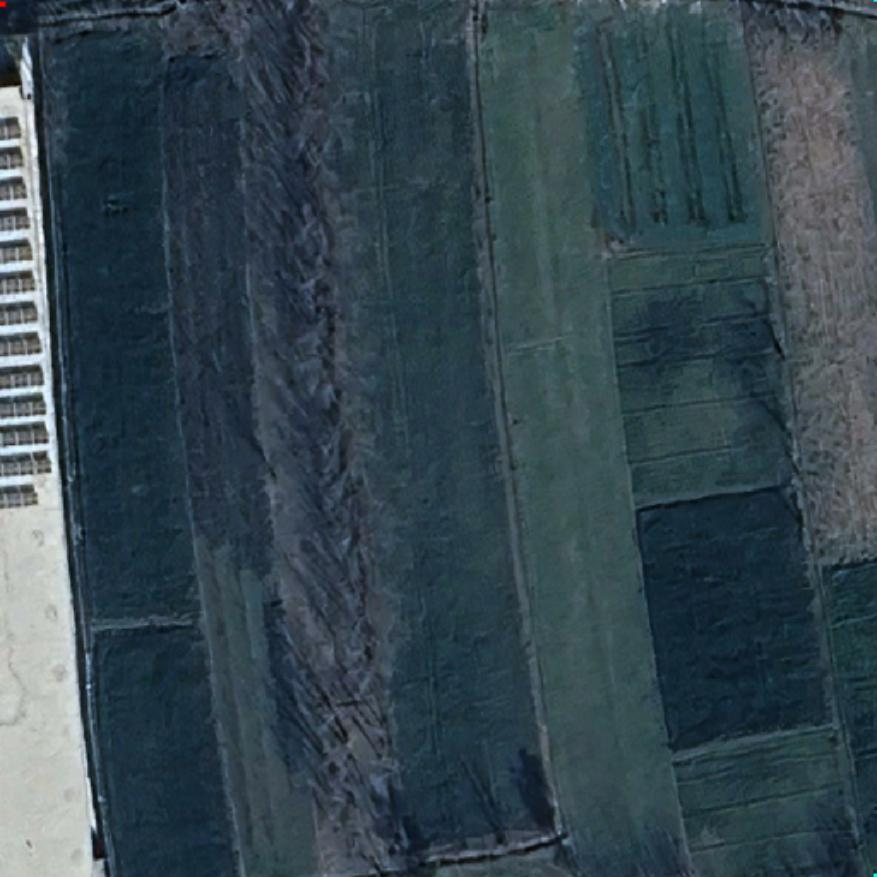Solarpanel: (0, 450, 54, 479), (0, 420, 52, 449), (0, 394, 50, 420), (0, 330, 46, 358), (0, 364, 48, 390), (1, 483, 42, 511), (1, 300, 42, 326), (0, 269, 38, 294), (0, 240, 36, 264), (0, 207, 32, 232), (0, 176, 30, 202), (0, 146, 28, 170), (0, 114, 24, 142)
